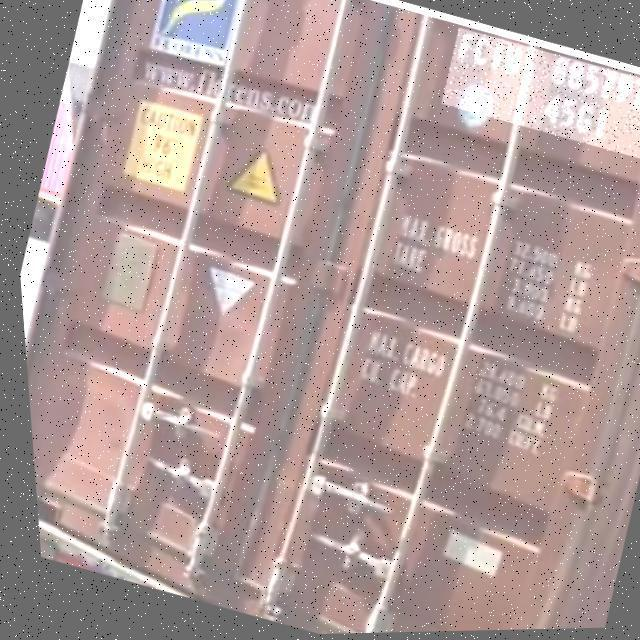container_number_h: (434, 26, 640, 172)
